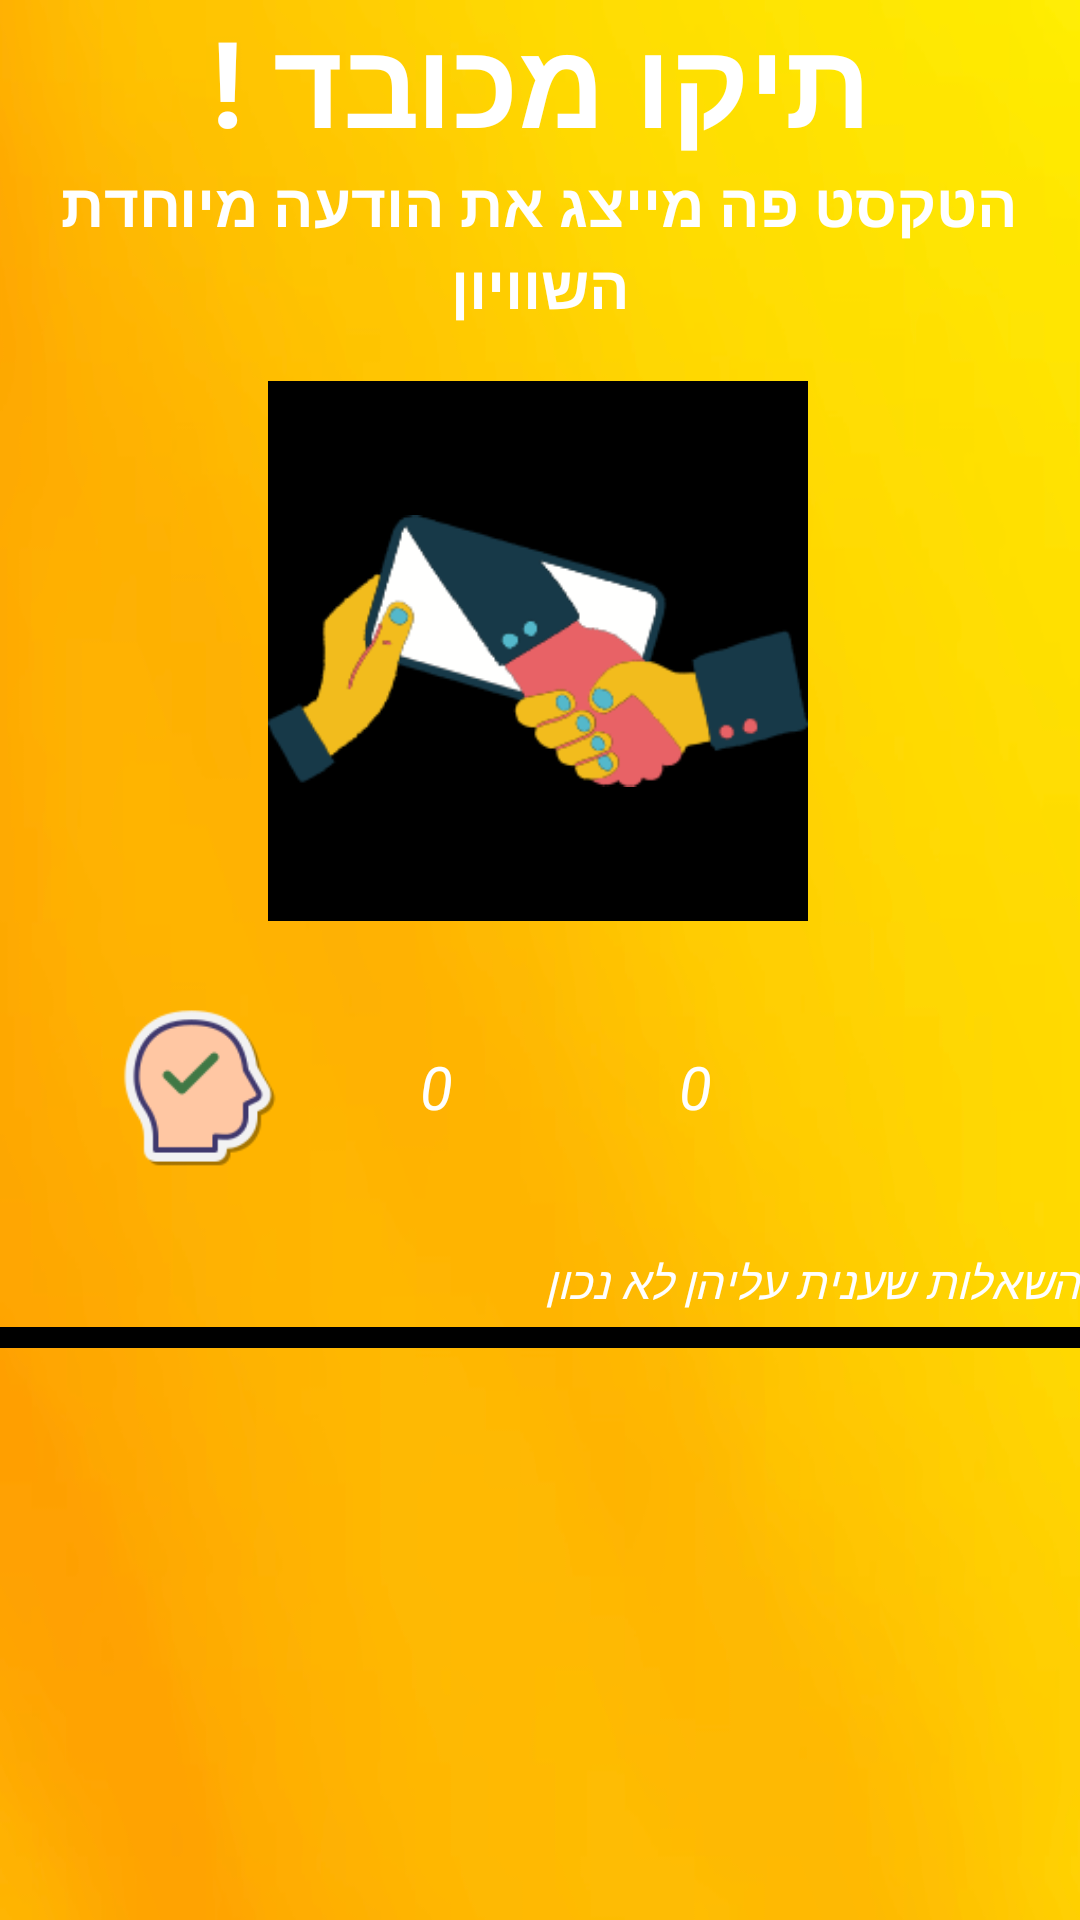

Where to tap for icons on this 1080w x 1920h app screen, as (x,y):
rightq: (199,1088)
